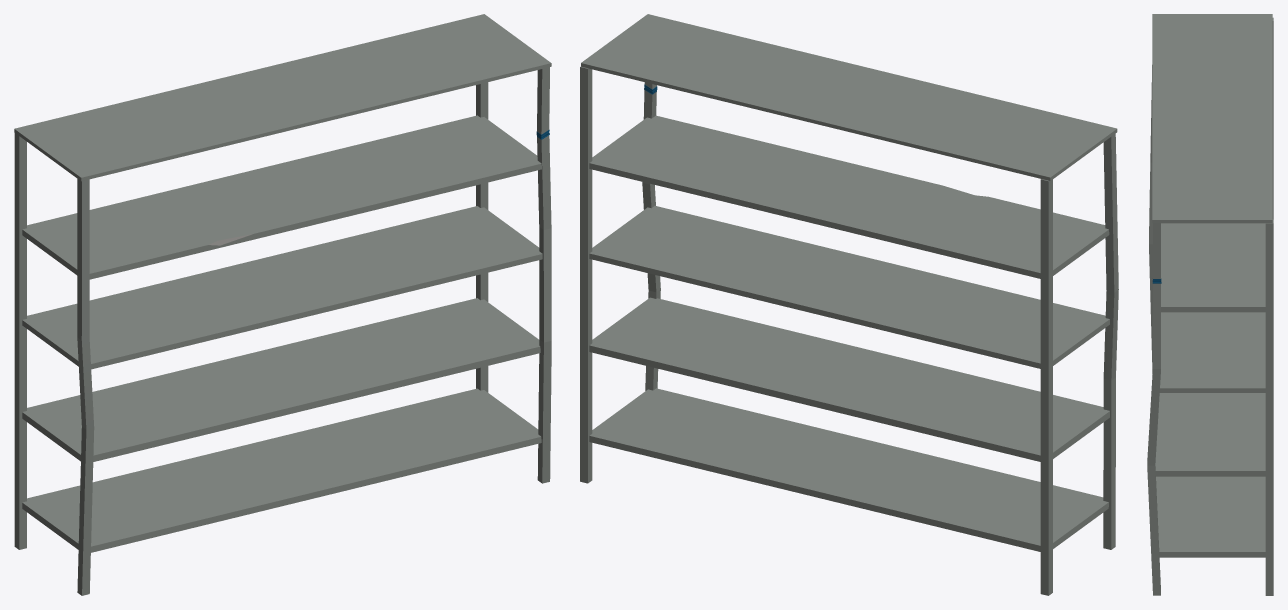
Rendered from SM_Tool_Cabinet_01.glb.
3 renders of one model, left to right at view 1: azimuth 30°, elevation 25°; view 2: azimuth 150°, elevation 25°; view 3: azimuth 270°, elevation 25°, orthographic. The views are drawn at different scales.
Parts seen in each view (by area): view 1: SM_Tool_Cabinet_01; view 2: SM_Tool_Cabinet_01; view 3: SM_Tool_Cabinet_01.
Part boxes in pixels (x1,y1,x2,y2): SM_Tool_Cabinet_01: [14, 14, 551, 595]; SM_Tool_Cabinet_01: [580, 14, 1118, 595]; SM_Tool_Cabinet_01: [1147, 14, 1273, 595].
Size of the model in its own units: 2.59 by 2.2 by 0.6719.
Materials: 1 (1 with a texture image).
